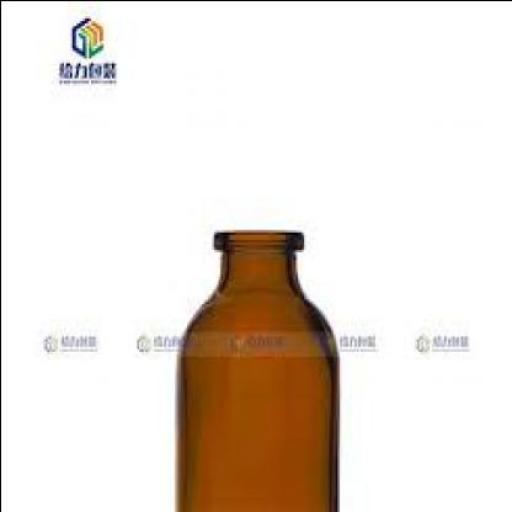glass: (174, 226, 336, 510)
